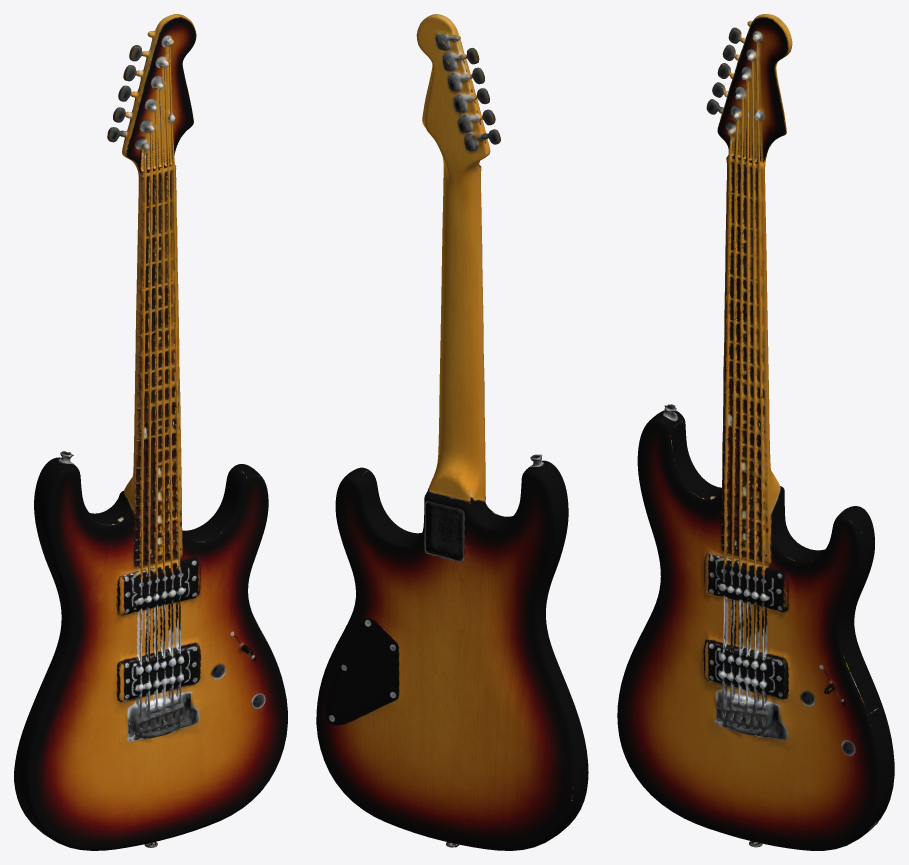
File: guitar-electric.glb
3 renders of one model, left to right at view 1: azimuth 30°, elevation 25°; view 2: azimuth 150°, elevation 25°; view 3: azimuth 330°, elevation 25°, orthographic.
Parts seen in each view (by area): view 1: Retopo_Mesh_0; view 2: Retopo_Mesh_0; view 3: Retopo_Mesh_0.
Boxes of the visible parts, x1,y1,x2,y2 form: Retopo_Mesh_0: [14, 14, 287, 850]; Retopo_Mesh_0: [316, 14, 588, 850]; Retopo_Mesh_0: [617, 14, 894, 850].
Size of the model in its own units: 0.6318 by 1.9 by 0.1076.
Materials: 1 (1 with a texture image).
